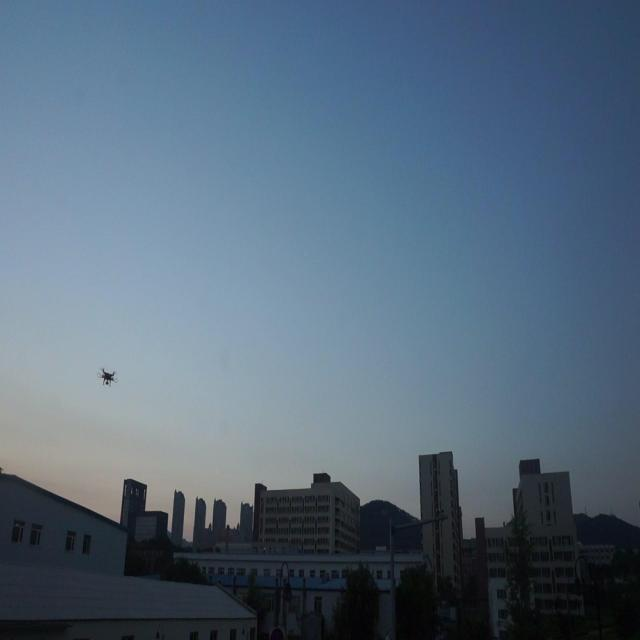drone: (95, 363, 118, 390)
